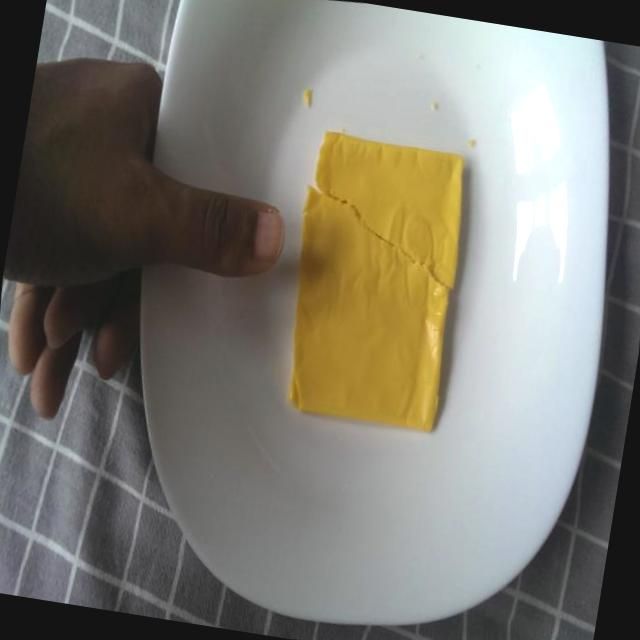Cheese: (256, 102, 496, 457)
Finger: (178, 170, 301, 300)
